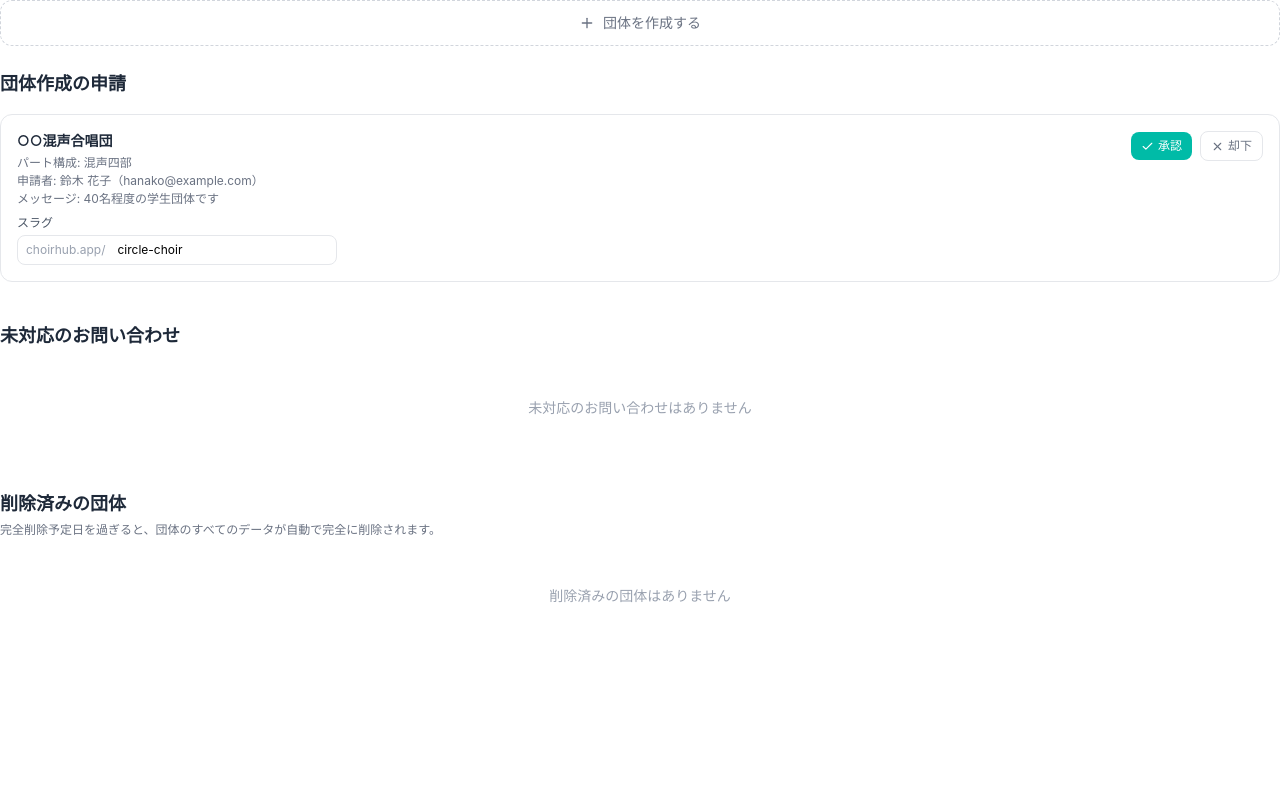
it: AdminPage（承認・却下） › 却下をクリックするとrejectが呼ばれ一覧から消える
Expected: the text "○○混声合唱団" is shown, [17,132,113,149]
Click the button labelled "却下" at (1232, 146), box [1200,131,1263,161]
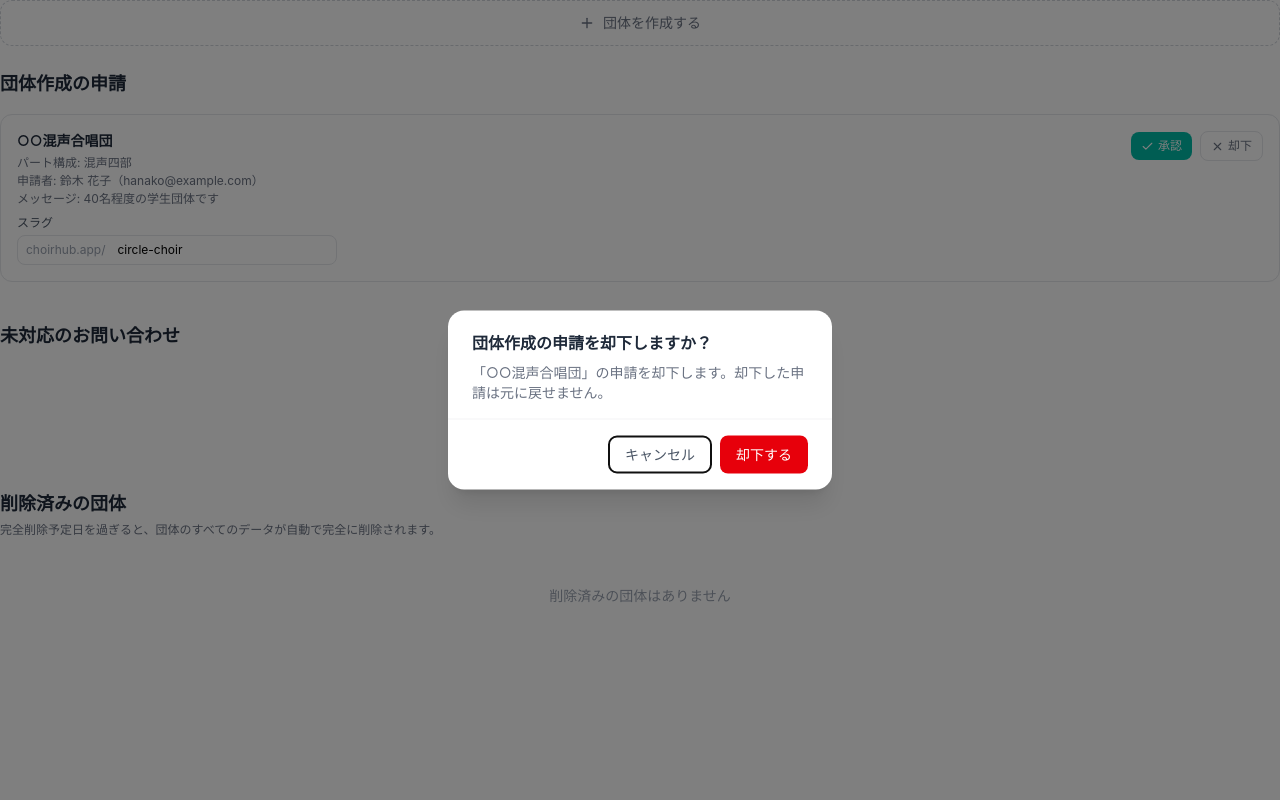
Result: the dialog "団体作成の申請を却下しますか？" shows "「○○混声合唱団」の申請を却下します" at [472,364,804,400]
Click the button "却下する" at (764, 454), box [720,436,808,474]
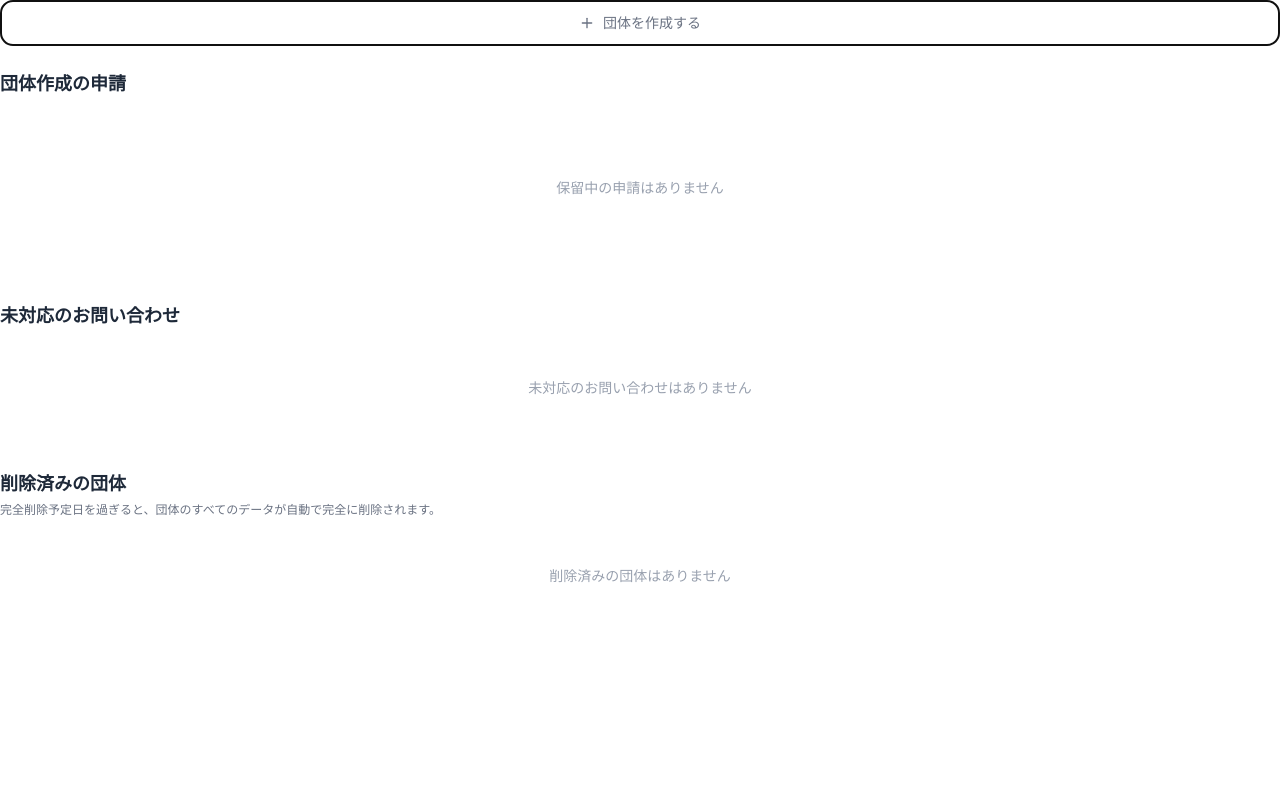
Result: the text "○○混声合唱団" is gone
